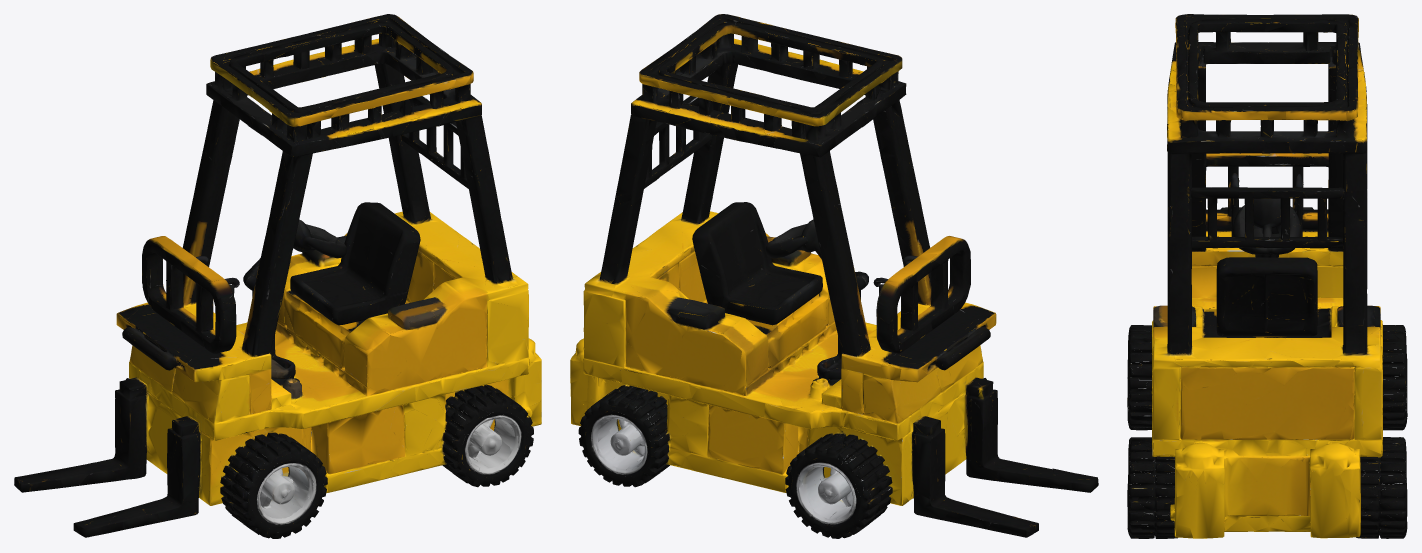
Rendered from forklift.glb.
3 renders of one model, left to right at view 1: azimuth 30°, elevation 25°; view 2: azimuth 150°, elevation 25°; view 3: azimuth 270°, elevation 25°, orthographic. The views are drawn at different scales.
Visible parts, largest first — view 1: meshy_forklift_full; view 2: meshy_forklift_full; view 3: meshy_forklift_full.
Part boxes in pixels (box(x1,y1,x2,y2)): meshy_forklift_full: box(14, 14, 541, 538); meshy_forklift_full: box(570, 14, 1098, 538); meshy_forklift_full: box(1127, 14, 1407, 538).
Size of the model in its own units: 2.52 by 2.1 by 1.25.
Materials: 1 (1 with a texture image).
